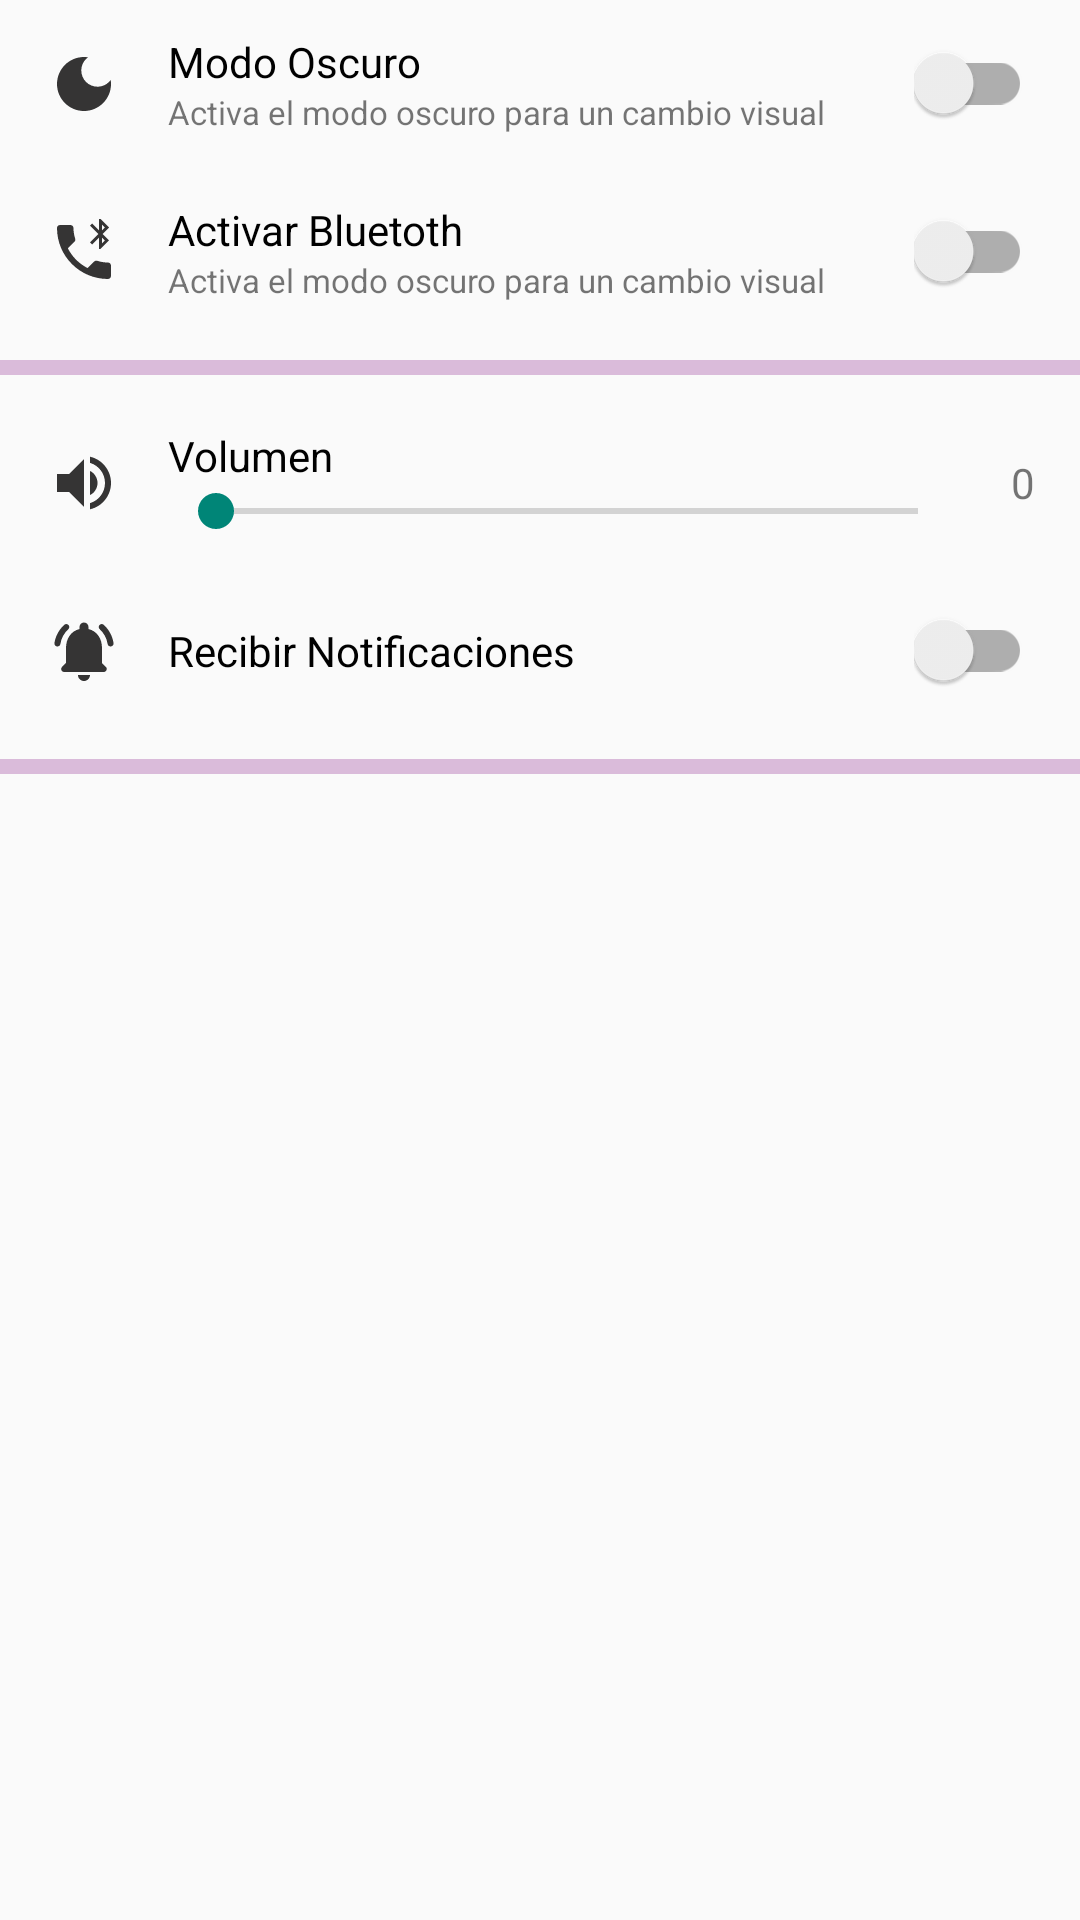

Icon click points for this 1080x1920 phone screenshot, format (x=x, y=y):
mode: (x=84, y=84)
notification: (x=84, y=651)
